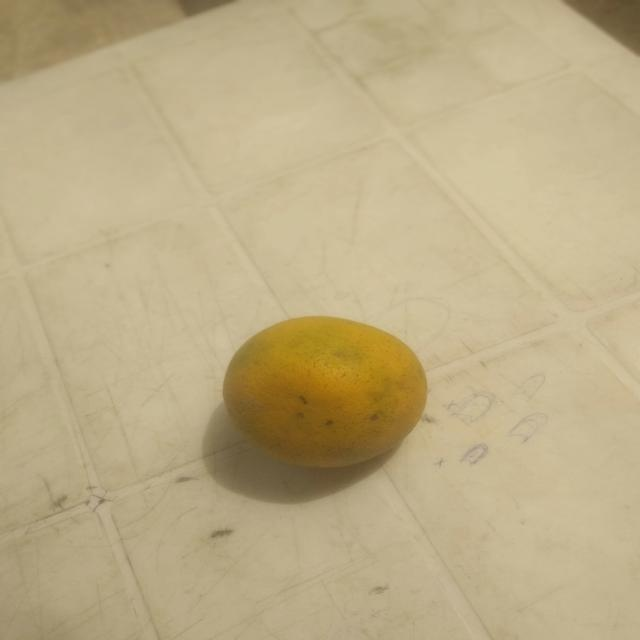agrume: (199, 294, 460, 484)
